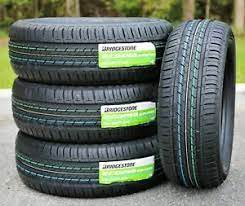tire: (156, 19, 236, 189), (8, 16, 173, 85), (14, 130, 165, 199), (11, 78, 157, 144)
